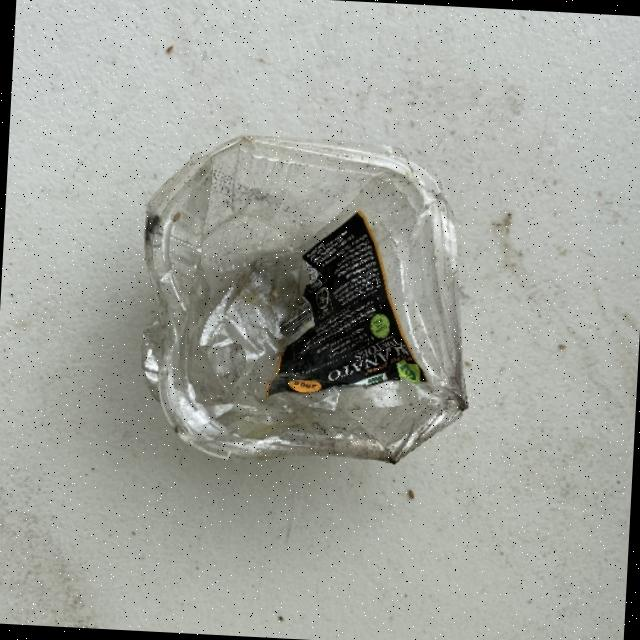plastic: (131, 128, 482, 472)
